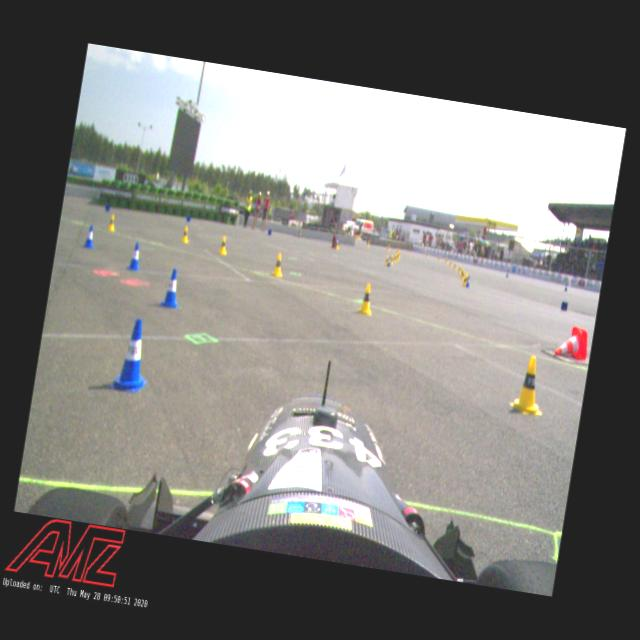blue_cone: (108, 315, 158, 396), (160, 268, 183, 310), (126, 240, 144, 273), (81, 223, 98, 250), (465, 274, 472, 288), (386, 256, 392, 268)
large_orange_cone: (554, 323, 592, 363)
yellow_cone: (508, 352, 550, 418), (357, 282, 376, 316), (270, 252, 286, 279), (218, 235, 230, 256), (106, 212, 117, 232), (179, 226, 191, 244), (461, 274, 469, 287), (384, 255, 391, 267)
